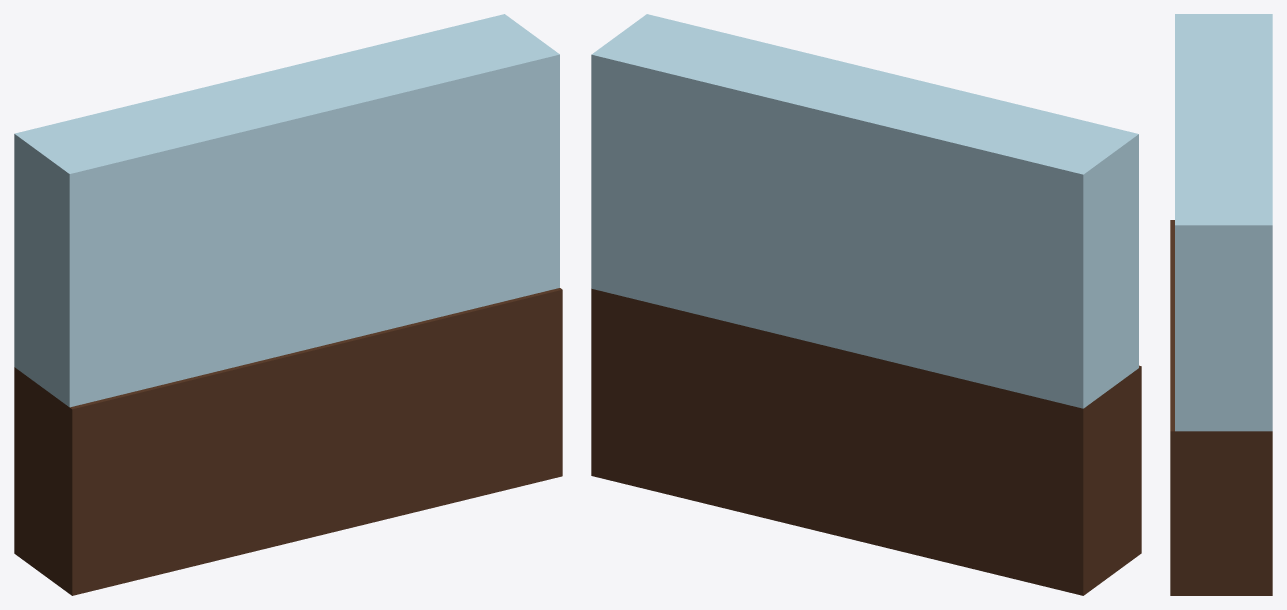
The model's file is trophy_case.glb.
3 views of the same model, side by side, from view 1: azimuth 30°, elevation 25°; view 2: azimuth 150°, elevation 25°; view 3: azimuth 270°, elevation 25° (orthographic). The views are drawn at different scales.
Visible parts, largest first — view 1: Box2, Box1; view 2: Box2, Box1; view 3: Box2, Box1.
Boxes of the visible parts, x1=… form: Box2: x1=14, y1=14, x2=559, y2=407; Box1: x1=14, y1=288, x2=562, y2=595; Box2: x1=591, y1=14, x2=1138, y2=408; Box1: x1=591, y1=288, x2=1141, y2=595; Box2: x1=1175, y1=14, x2=1272, y2=431; Box1: x1=1170, y1=220, x2=1272, y2=595.
Bounding box in the file's own units: 2.2 × 1.8 × 0.45.
